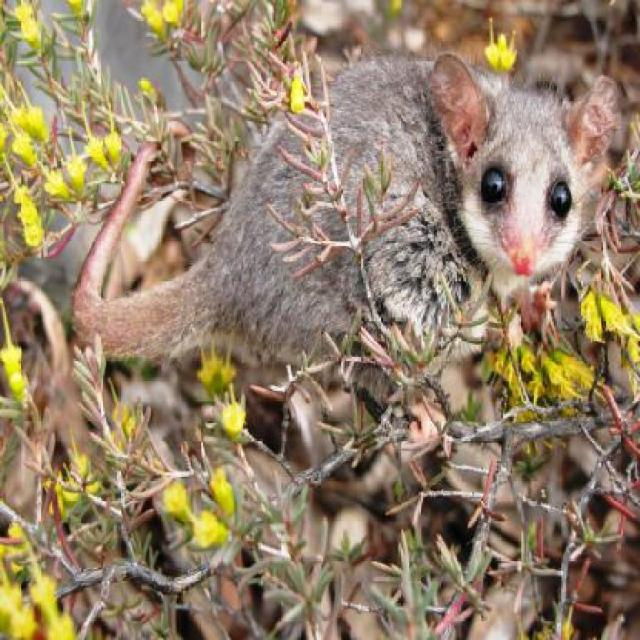Mouse: (66, 45, 623, 439)
